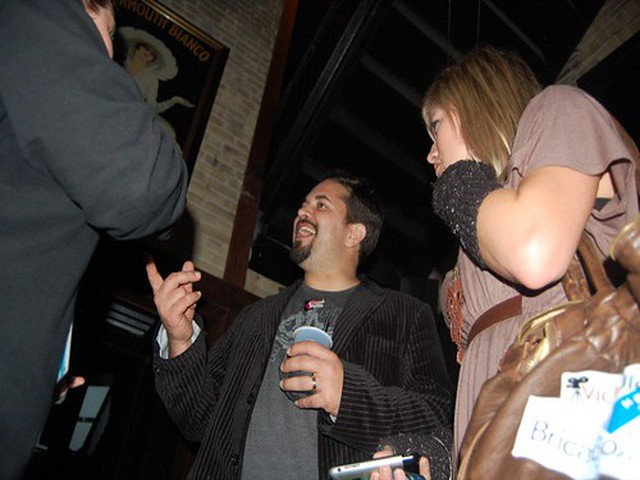Person: (145, 165, 410, 458), (418, 23, 638, 290), (2, 3, 142, 389)
